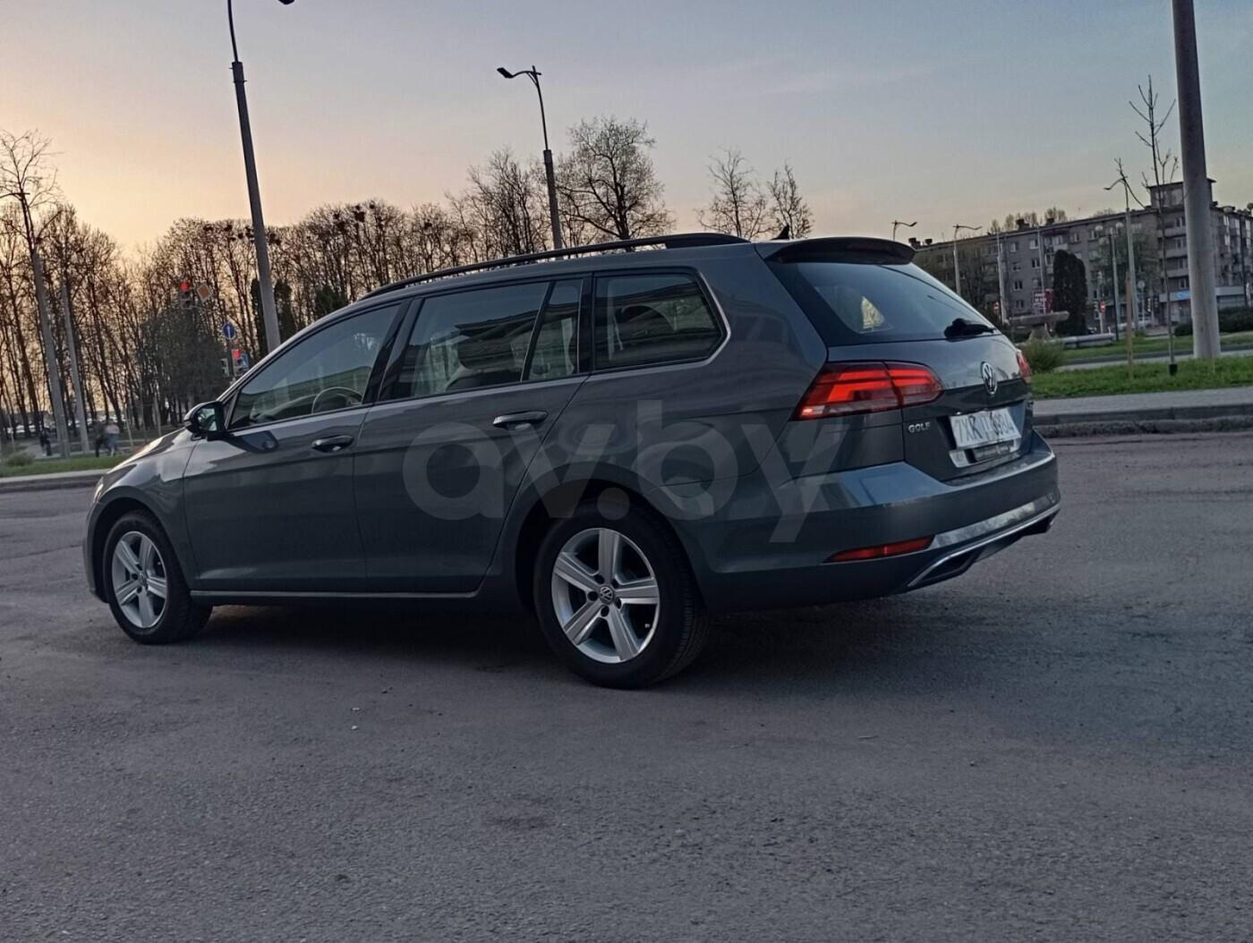Golf_2017-2021: (79, 240, 1065, 677)
